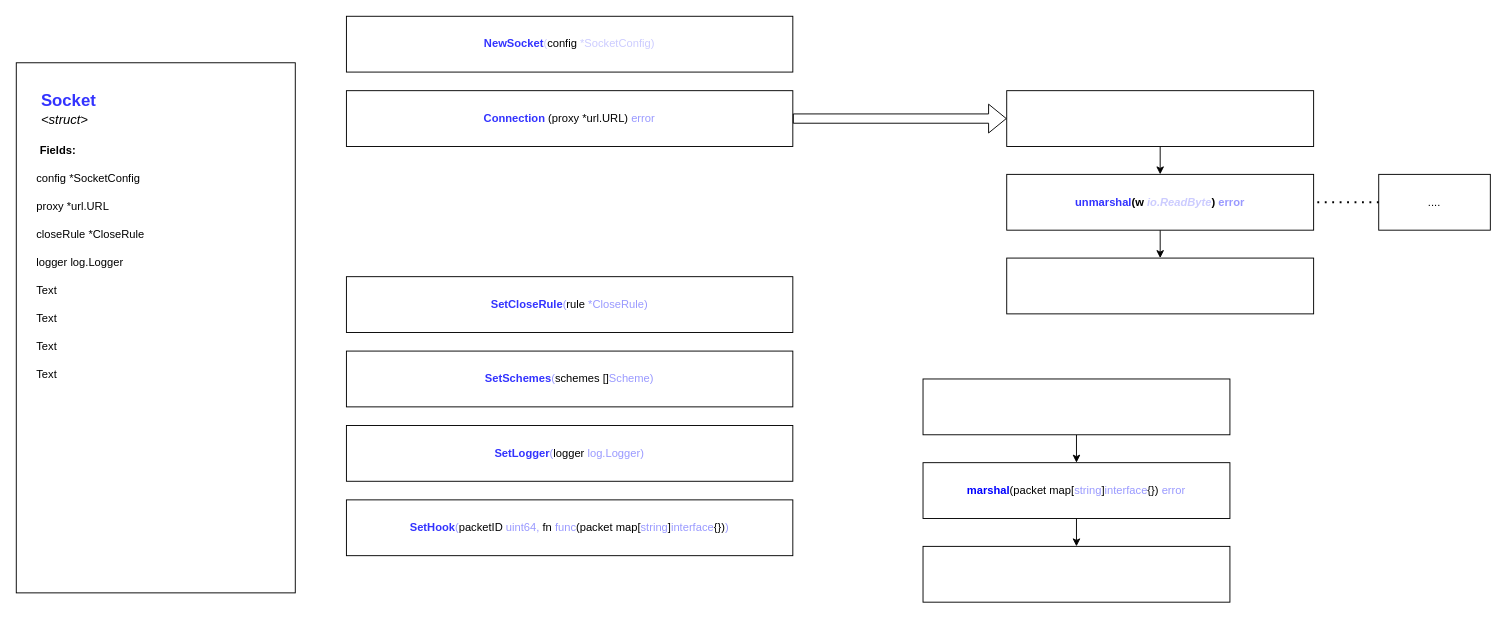
This 1507x618 diagram has some shape labels left out. The shapes that lost their labels are listed below. From the top down, each one's centre as x and y in pixels, then its label:
At point 1160,118: "loop ()".
At point 1160,285: "NextPacket () chan map[ string ] interface {}".
At point 1076,406: "Send (packet map[ string ] interface {})".
At point 1076,573: "send (w io.ByteReader )".
